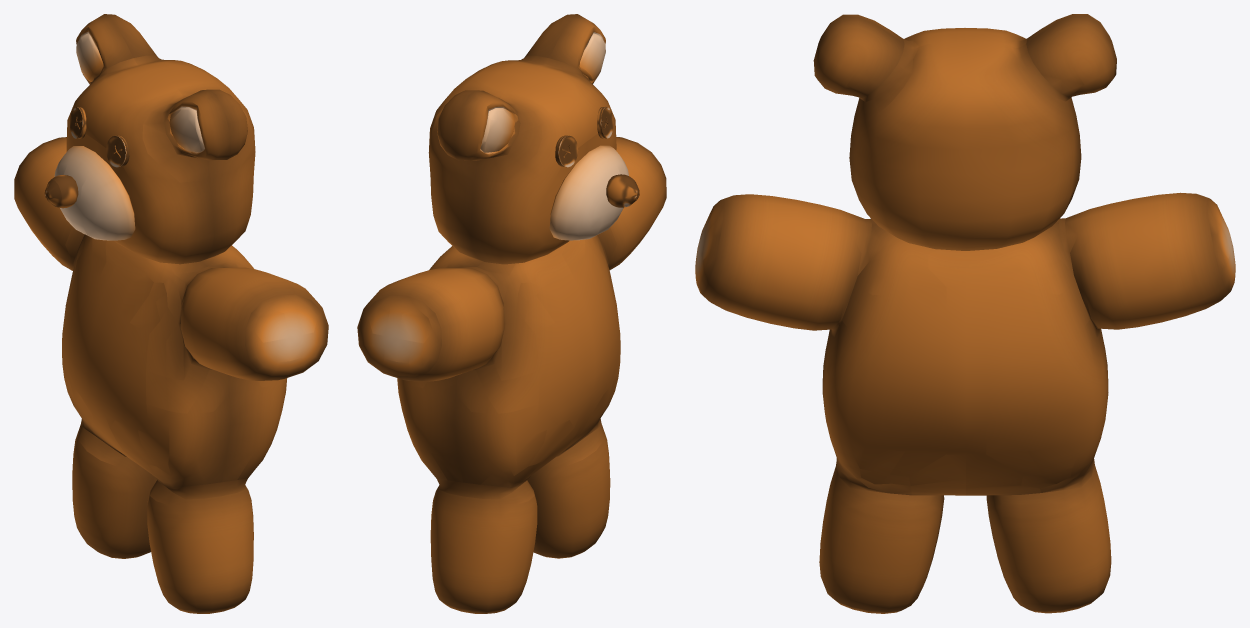
The model's file is bear.obj.
The picture shows the model from 3 angles, left to right: view 1: azimuth 30°, elevation 25°; view 2: azimuth 150°, elevation 25°; view 3: azimuth 270°, elevation 25°; orthographic projection. The views are drawn at different scales.
Parts seen in each view (by area): view 1: bear:brownTeddyBearGeoBrownTeddyR_button group; view 2: bear:brownTeddyBearGeoBrownTeddyR_button group; view 3: bear:brownTeddyBearGeoBrownTeddyR_button group.
Boxes of the visible parts, x1,y1,x2,y2 form: bear:brownTeddyBearGeoBrownTeddyR_button group: (14, 14, 328, 613); bear:brownTeddyBearGeoBrownTeddyR_button group: (357, 14, 666, 613); bear:brownTeddyBearGeoBrownTeddyR_button group: (695, 14, 1235, 613).
Size of the model in its own units: 0.2135 by 0.5064 by 0.423.
Materials: 1 (1 with a texture image).
